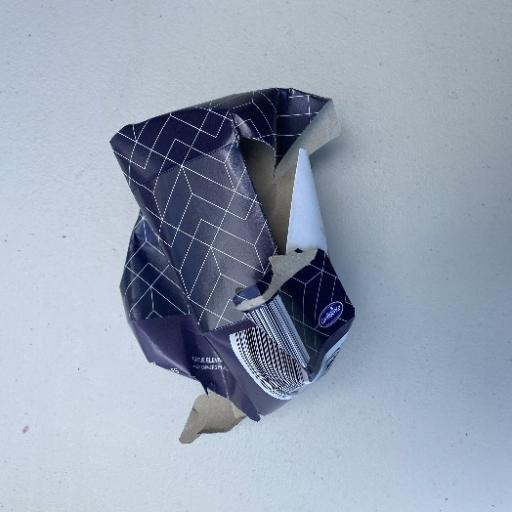Cardboard: (108, 85, 358, 425)
